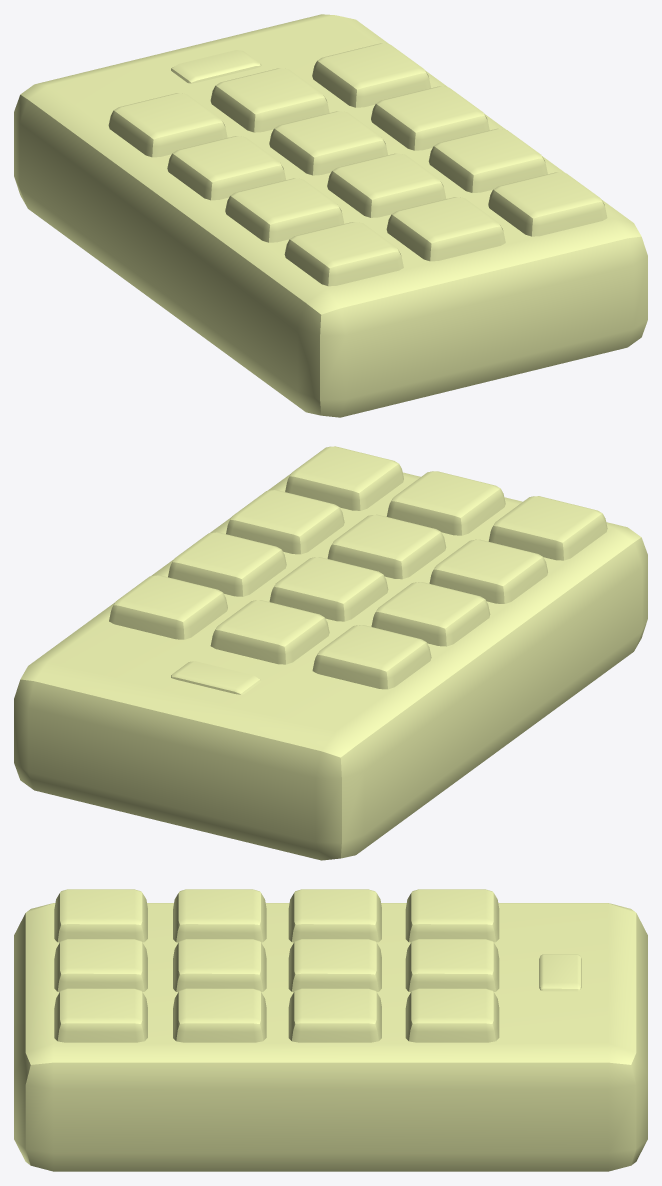
The model's file is Number_Pad.fbx.
3 renders of one model, top to bottom at view 1: azimuth 30°, elevation 25°; view 2: azimuth 150°, elevation 25°; view 3: azimuth 270°, elevation 25°, orthographic.
Visible parts, largest first — view 1: key_pad, key_pound, key0, key_star, key7, key8, key9, key3, key1, key2, key6, key4 (+2 smaller); view 2: key_pad, key2, key3, key1, key0, key_star, key_pound, key5, key4, key6, key7, key8 (+2 smaller); view 3: key_pad, key3, key_pound, key6, key9, key1, key2, key_star, key7, key4, key5, key8 (+2 smaller).
Part boxes in pixels (x1=…): key_pad: x1=14, y1=14, x2=647, y2=417; key_pound: x1=488, y1=172, x2=607, y2=236; key0: x1=386, y1=197, x2=505, y2=261; key_star: x1=284, y1=222, x2=403, y2=286; key7: x1=225, y1=178, x2=344, y2=242; key8: x1=327, y1=153, x2=446, y2=217; key9: x1=428, y1=128, x2=547, y2=192; key3: x1=312, y1=43, x2=430, y2=107; key1: x1=108, y1=93, x2=227, y2=157; key2: x1=210, y1=68, x2=329, y2=132; key6: x1=371, y1=86, x2=489, y2=150; key4: x1=167, y1=136, x2=285, y2=200; key_pad: x1=14, y1=472, x2=647, y2=860; key2: x1=210, y1=600, x2=329, y2=664; key3: x1=109, y1=575, x2=227, y2=639; key1: x1=312, y1=625, x2=431, y2=689; key0: x1=386, y1=471, x2=505, y2=535; key_star: x1=488, y1=496, x2=607, y2=560; key_pound: x1=285, y1=446, x2=403, y2=510; key5: x1=269, y1=557, x2=388, y2=621; key4: x1=371, y1=582, x2=490, y2=646; key6: x1=168, y1=532, x2=286, y2=596; key7: x1=429, y1=539, x2=547, y2=603; key8: x1=327, y1=514, x2=446, y2=579; key_pad: x1=14, y1=903, x2=647, y2=1171; key3: x1=405, y1=988, x2=499, y2=1042; key_pound: x1=54, y1=988, x2=147, y2=1042; key6: x1=288, y1=988, x2=381, y2=1042; key9: x1=173, y1=988, x2=266, y2=1042; key1: x1=405, y1=889, x2=499, y2=942; key2: x1=405, y1=939, x2=499, y2=992; key_star: x1=54, y1=889, x2=147, y2=942; key7: x1=173, y1=889, x2=266, y2=942; key4: x1=288, y1=889, x2=381, y2=942; key5: x1=288, y1=939, x2=381, y2=992; key8: x1=173, y1=939, x2=266, y2=991.
Bounding box in the file's own units: 0.1273 × 0.0488 × 0.2031.
